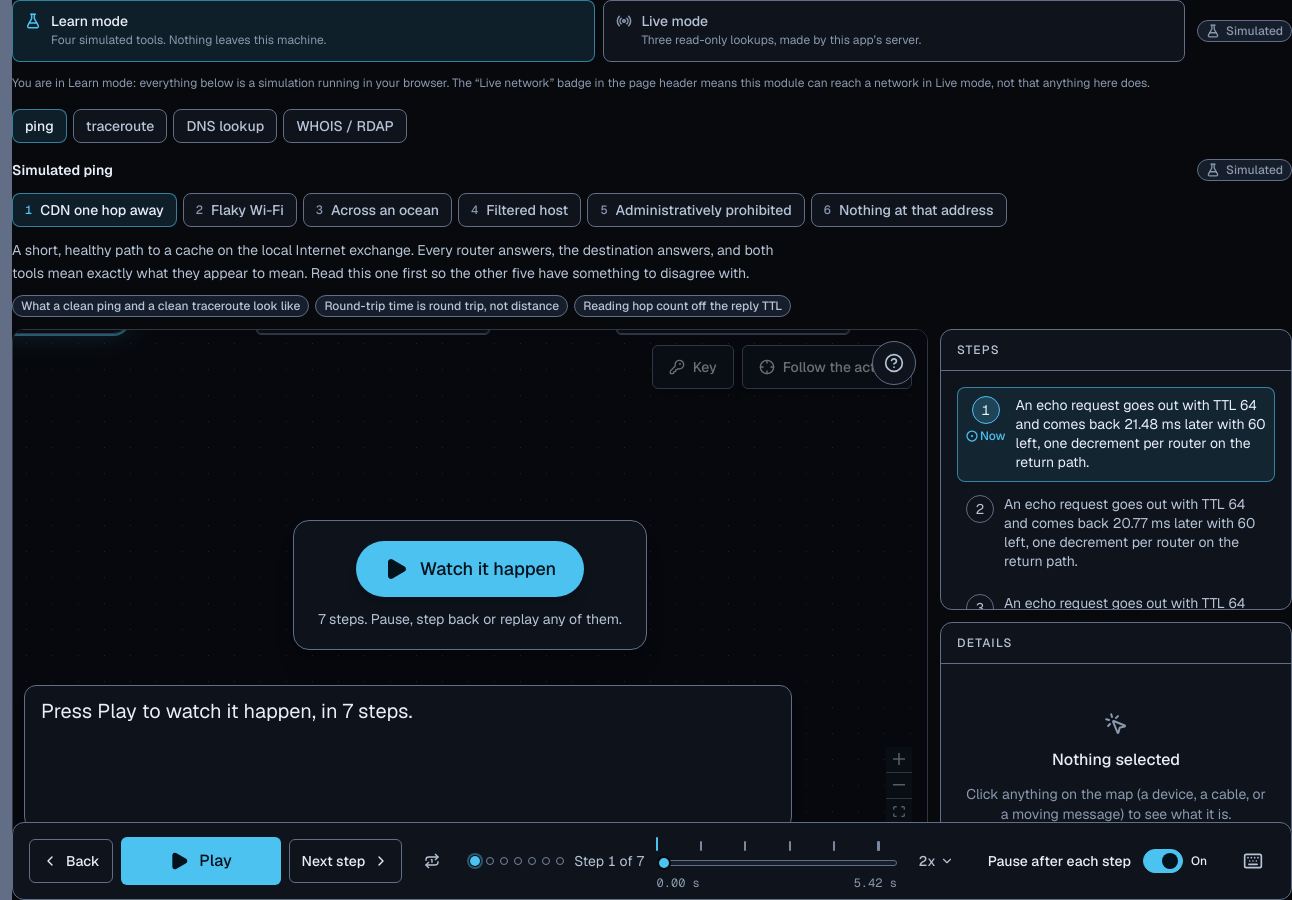
Scenario: the corrections each tool exists to make › shows clientHold on the expired domain, which is what explains the outage
This screenshot has width=1292, height=900.
Click the button "WHOIS / RDAP": x=345, y=126 283,109 -> 407,143
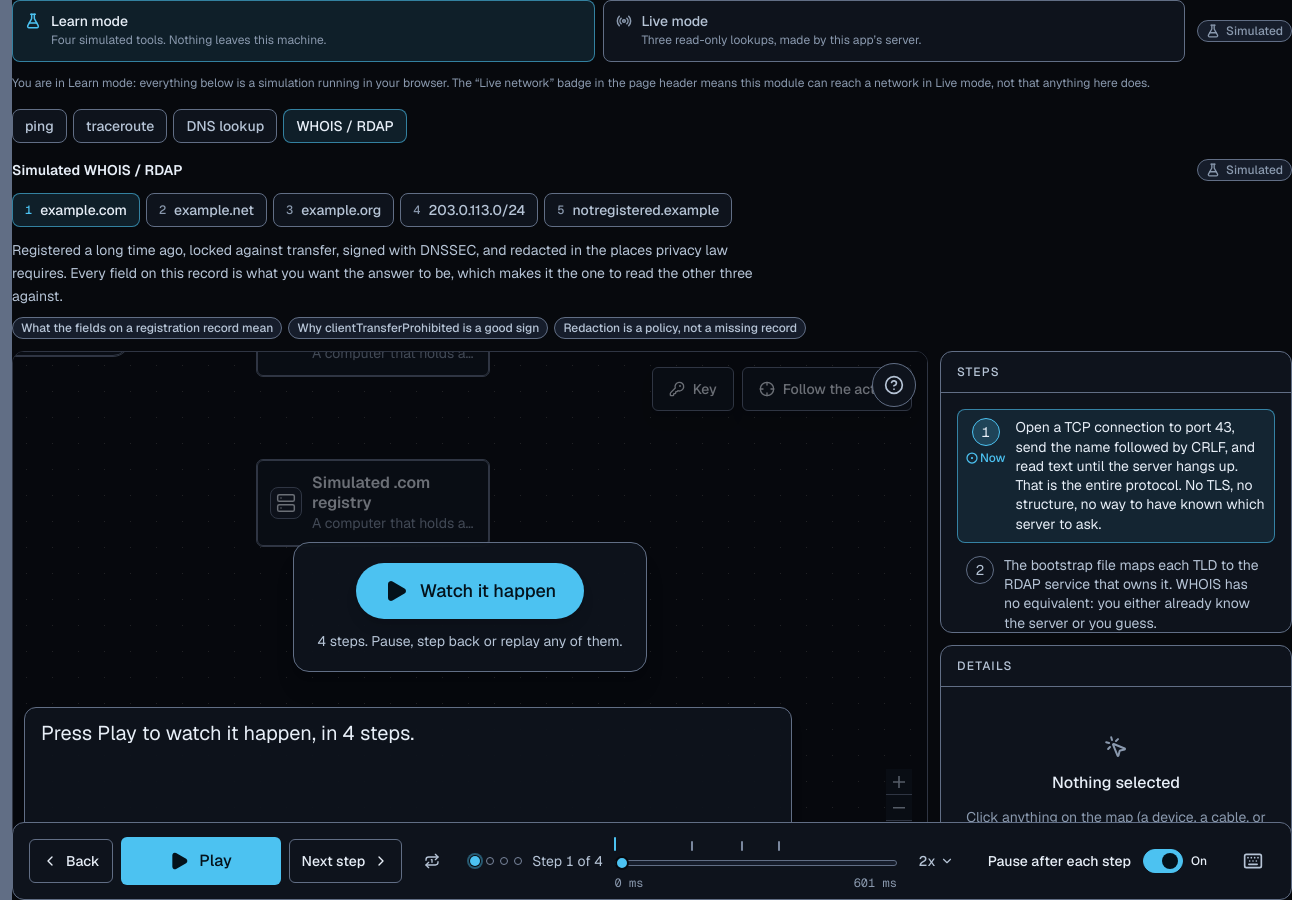
Click the button "3 example.org": x=334, y=210 273,193 -> 394,227
(page scrolled)
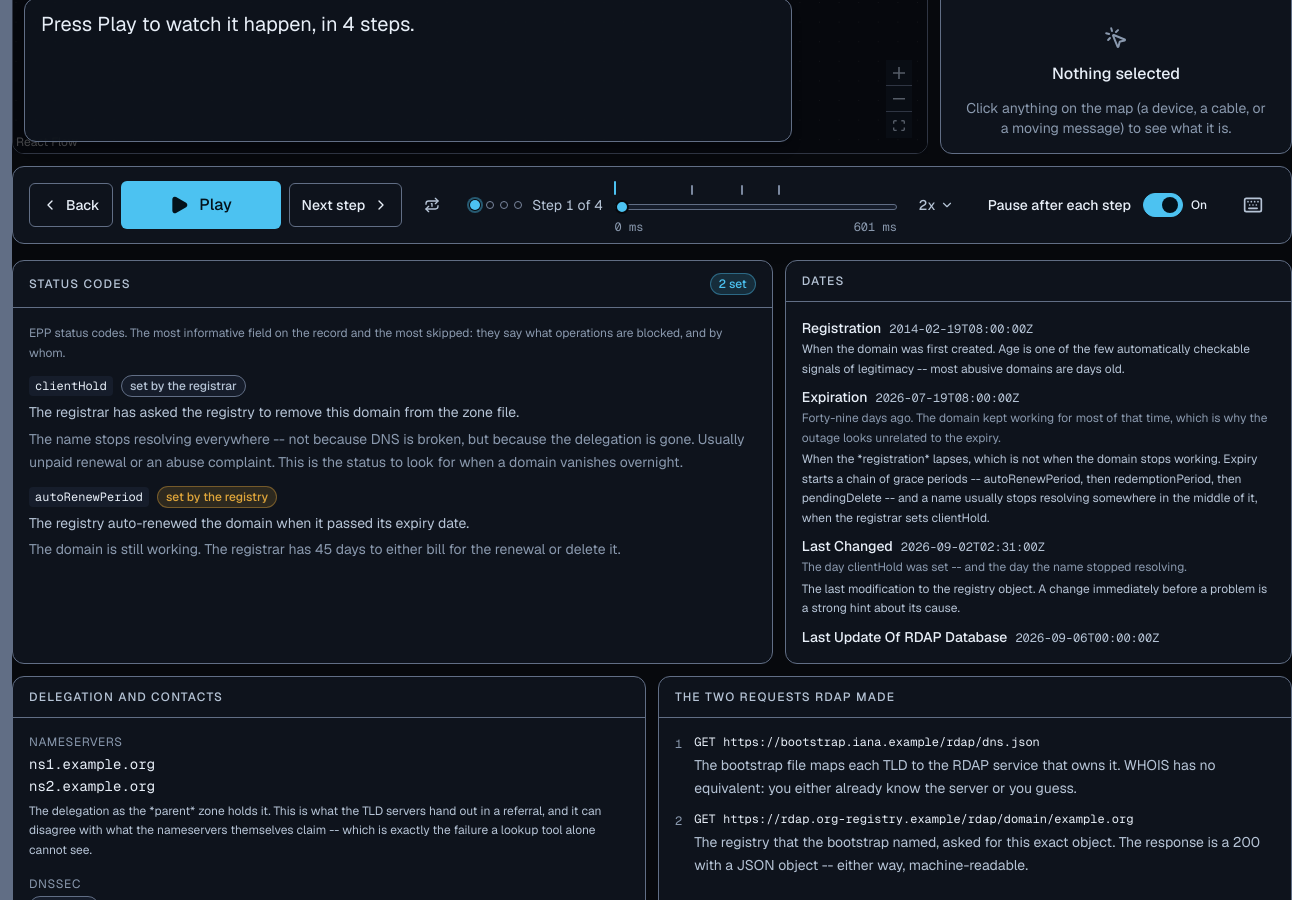
Check: the text "clientHold" is shown, box 29,376 -> 113,396
Check: the text "stops resolving everywhere" is shown, box 29,430 -> 745,471
